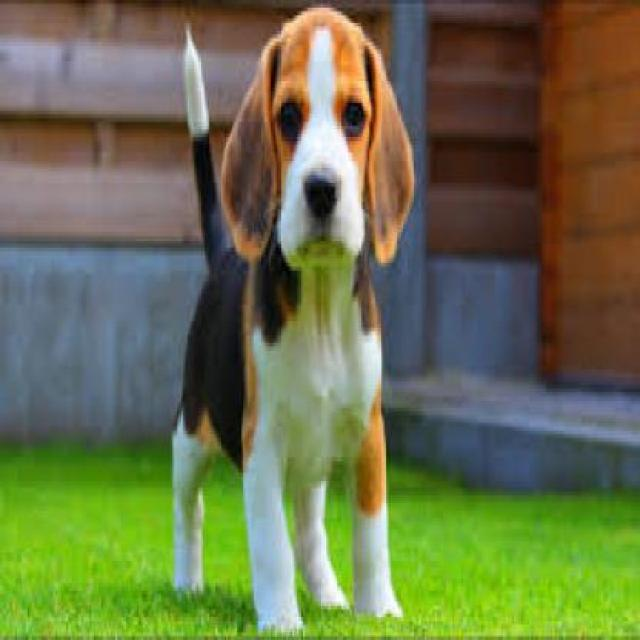Dog: (169, 0, 420, 637)
